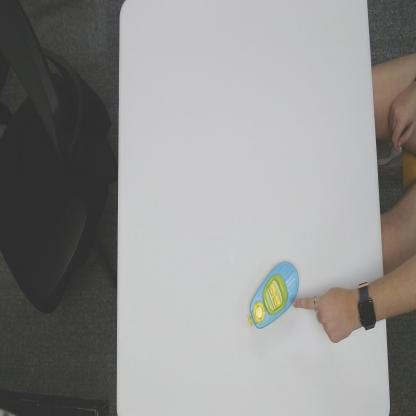Boat: (247, 257, 299, 332)
Hand: (294, 281, 358, 346)
